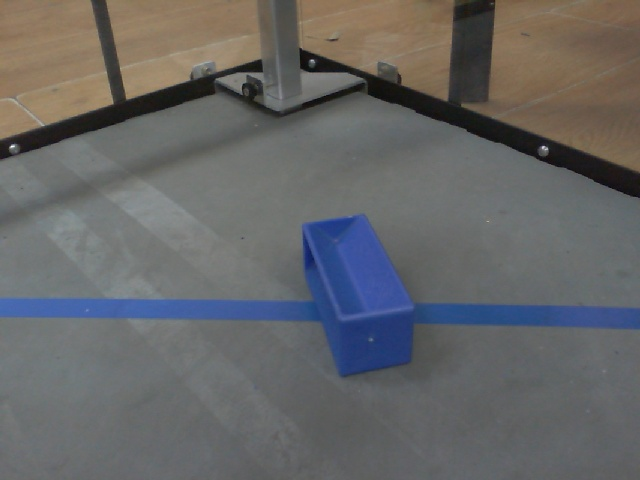BlueSample: (296, 211, 418, 379)
